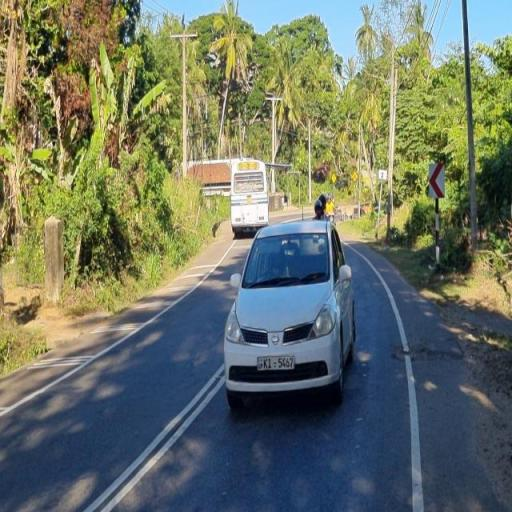double_white_line: (80, 361, 226, 510)
